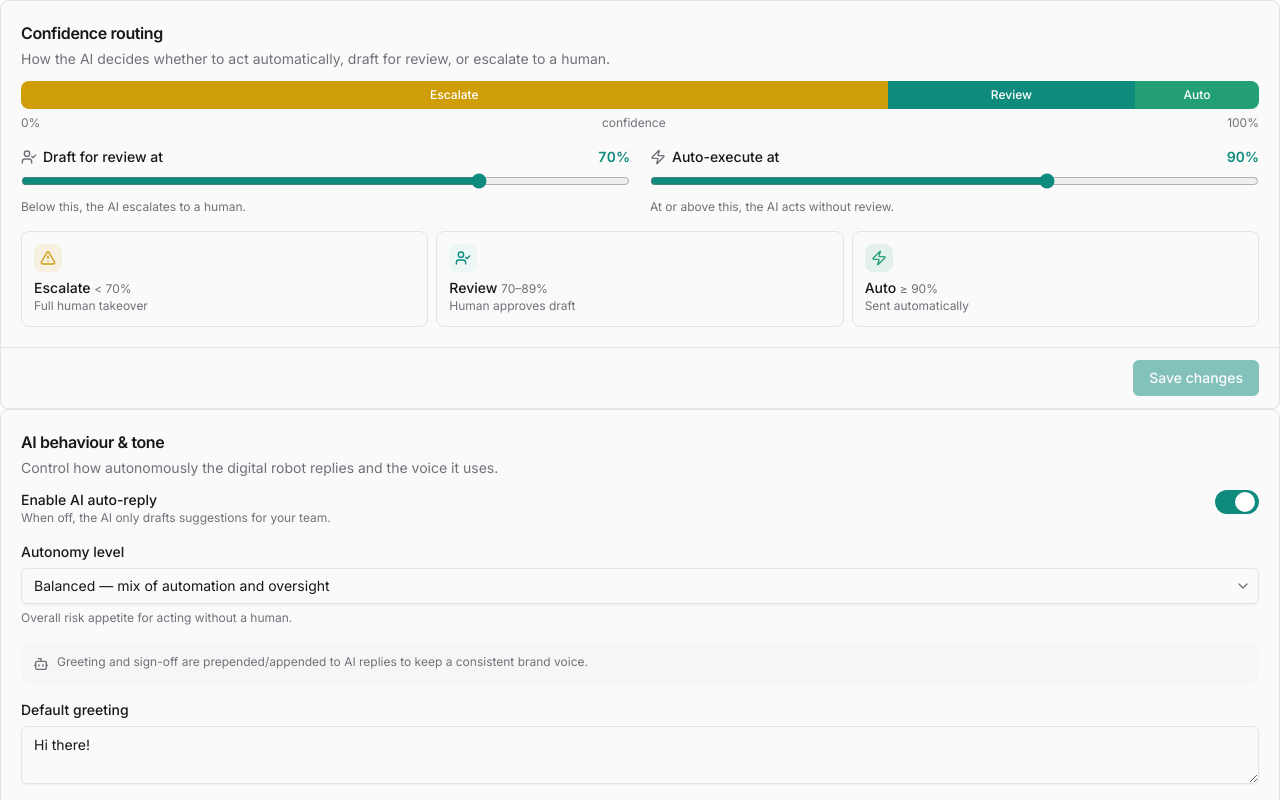
Test: confidence routing › refuses to drag auto-execute below the review threshold
The width and height of the screenshot is (1280, 800).
Set the slider below "Auto-execute at" to "65" at (954, 181), box [650, 173, 1259, 189]
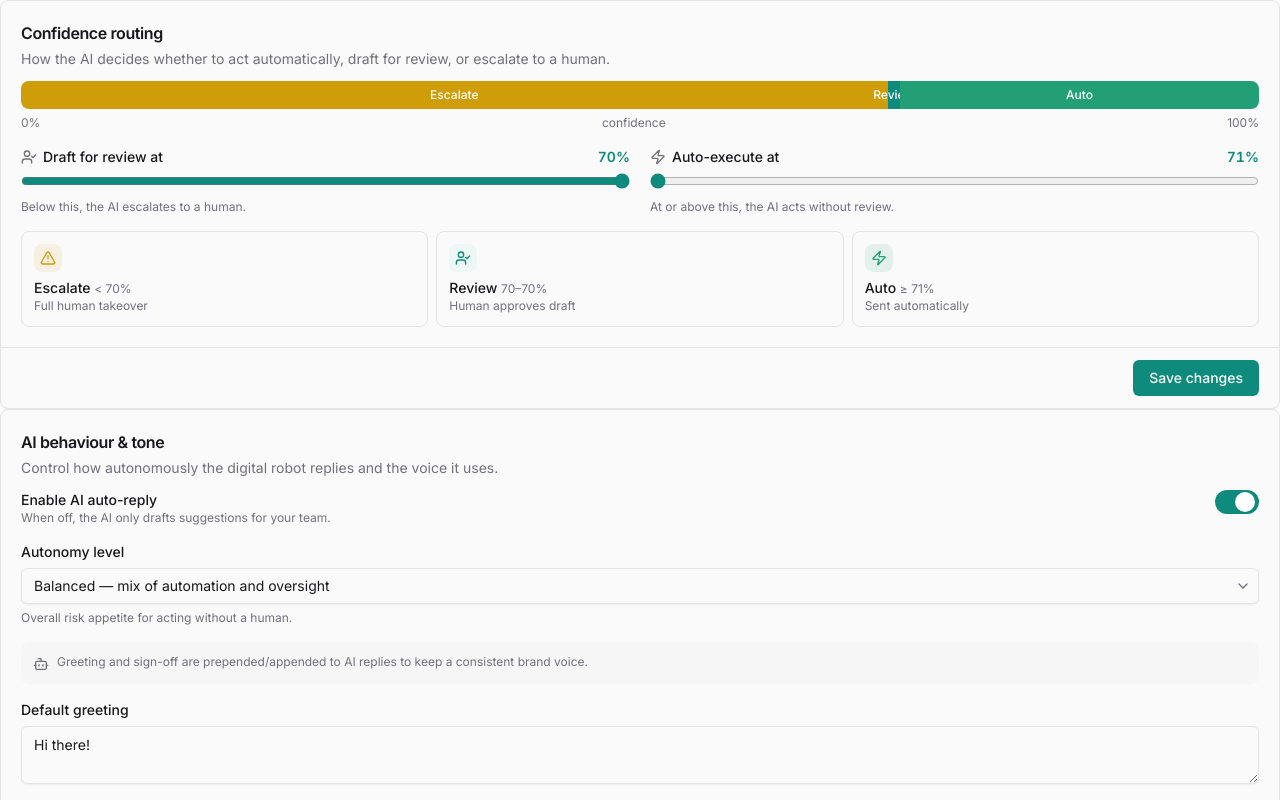
Expected: the slider below "Draft for review at" holds "70", [21, 173, 630, 189]
Result: the slider below "Auto-execute at" holds "71" at [650, 173, 1259, 189]
Result: the text "70–70%" is shown at [501, 281, 547, 296]
